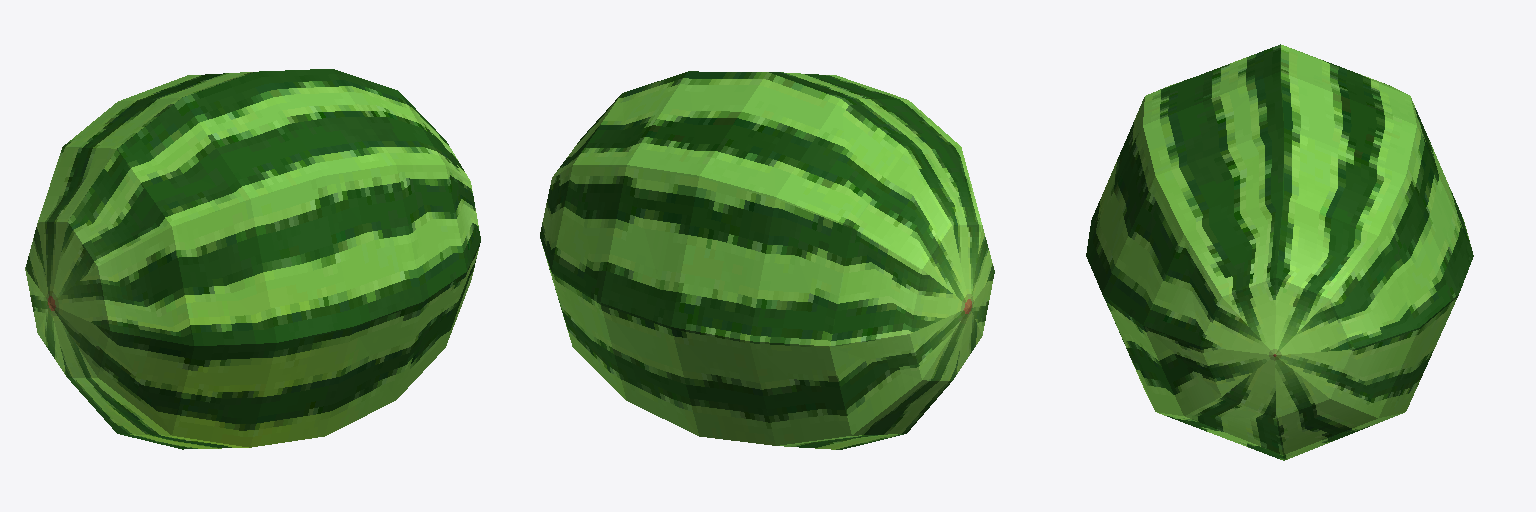
3 views of the same model, side by side, from view 1: azimuth 30°, elevation 25°; view 2: azimuth 150°, elevation 25°; view 3: azimuth 270°, elevation 25° (orthographic).
Parts seen in each view (by area): view 1: default; view 2: default; view 3: default.
Boxes of the visible parts, box(x1,y1,x2,y2) form: default: box(25, 69, 480, 449); default: box(540, 71, 994, 449); default: box(1086, 44, 1473, 460).
Bounding box in the file's own units: 1.42 × 1.23 × 1.17.
Materials: 1 (1 with a texture image).